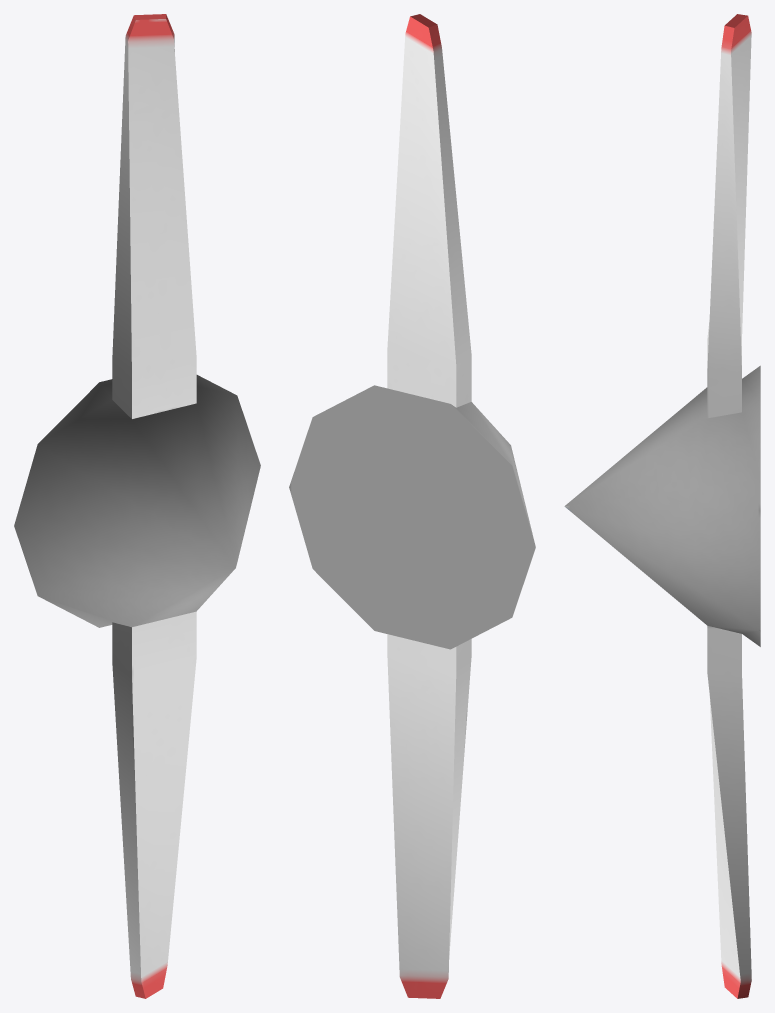
The model's file is planeProp.obj.
The picture shows the model from 3 angles, left to right: view 1: azimuth 30°, elevation 25°; view 2: azimuth 150°, elevation 25°; view 3: azimuth 270°, elevation 25°; orthographic projection.
Parts seen in each view (by area): view 1: Propeller; view 2: Propeller; view 3: Propeller.
Boxes of the visible parts, bbox=[...] form: Propeller: bbox=[14, 14, 260, 998]; Propeller: bbox=[289, 14, 535, 998]; Propeller: bbox=[564, 14, 760, 998].
Bounding box in the file's own units: 1.14 × 4.32 × 0.791.
1 material, 1 textured.
